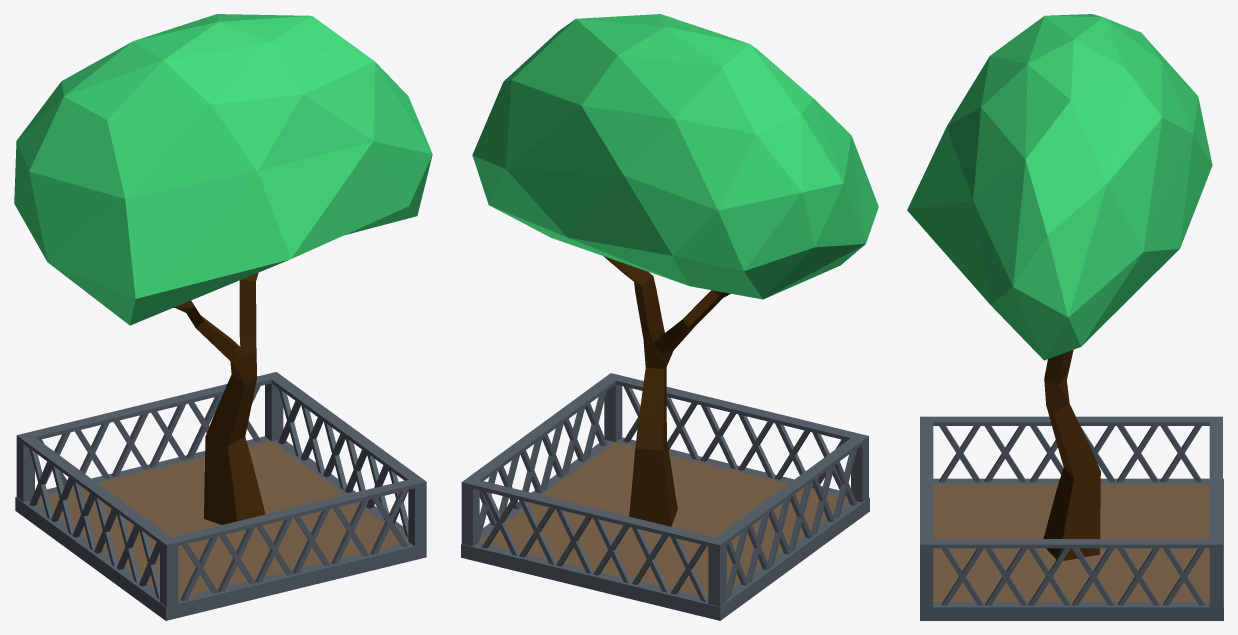
The model's file is Tree.fbx_T_r_e_e.fbx.
The picture shows the model from 3 angles, left to right: view 1: azimuth 30°, elevation 25°; view 2: azimuth 150°, elevation 25°; view 3: azimuth 270°, elevation 25°; orthographic projection.
Visible parts, largest first — view 1: Plane; view 2: Plane; view 3: Plane.
Boxes of the visible parts, x1=… form: Plane: x1=14, y1=14, x2=432, y2=620; Plane: x1=461, y1=14, x2=878, y2=620; Plane: x1=907, y1=14, x2=1223, y2=620.
Bounding box in the file's own units: 417 × 588 × 750.
